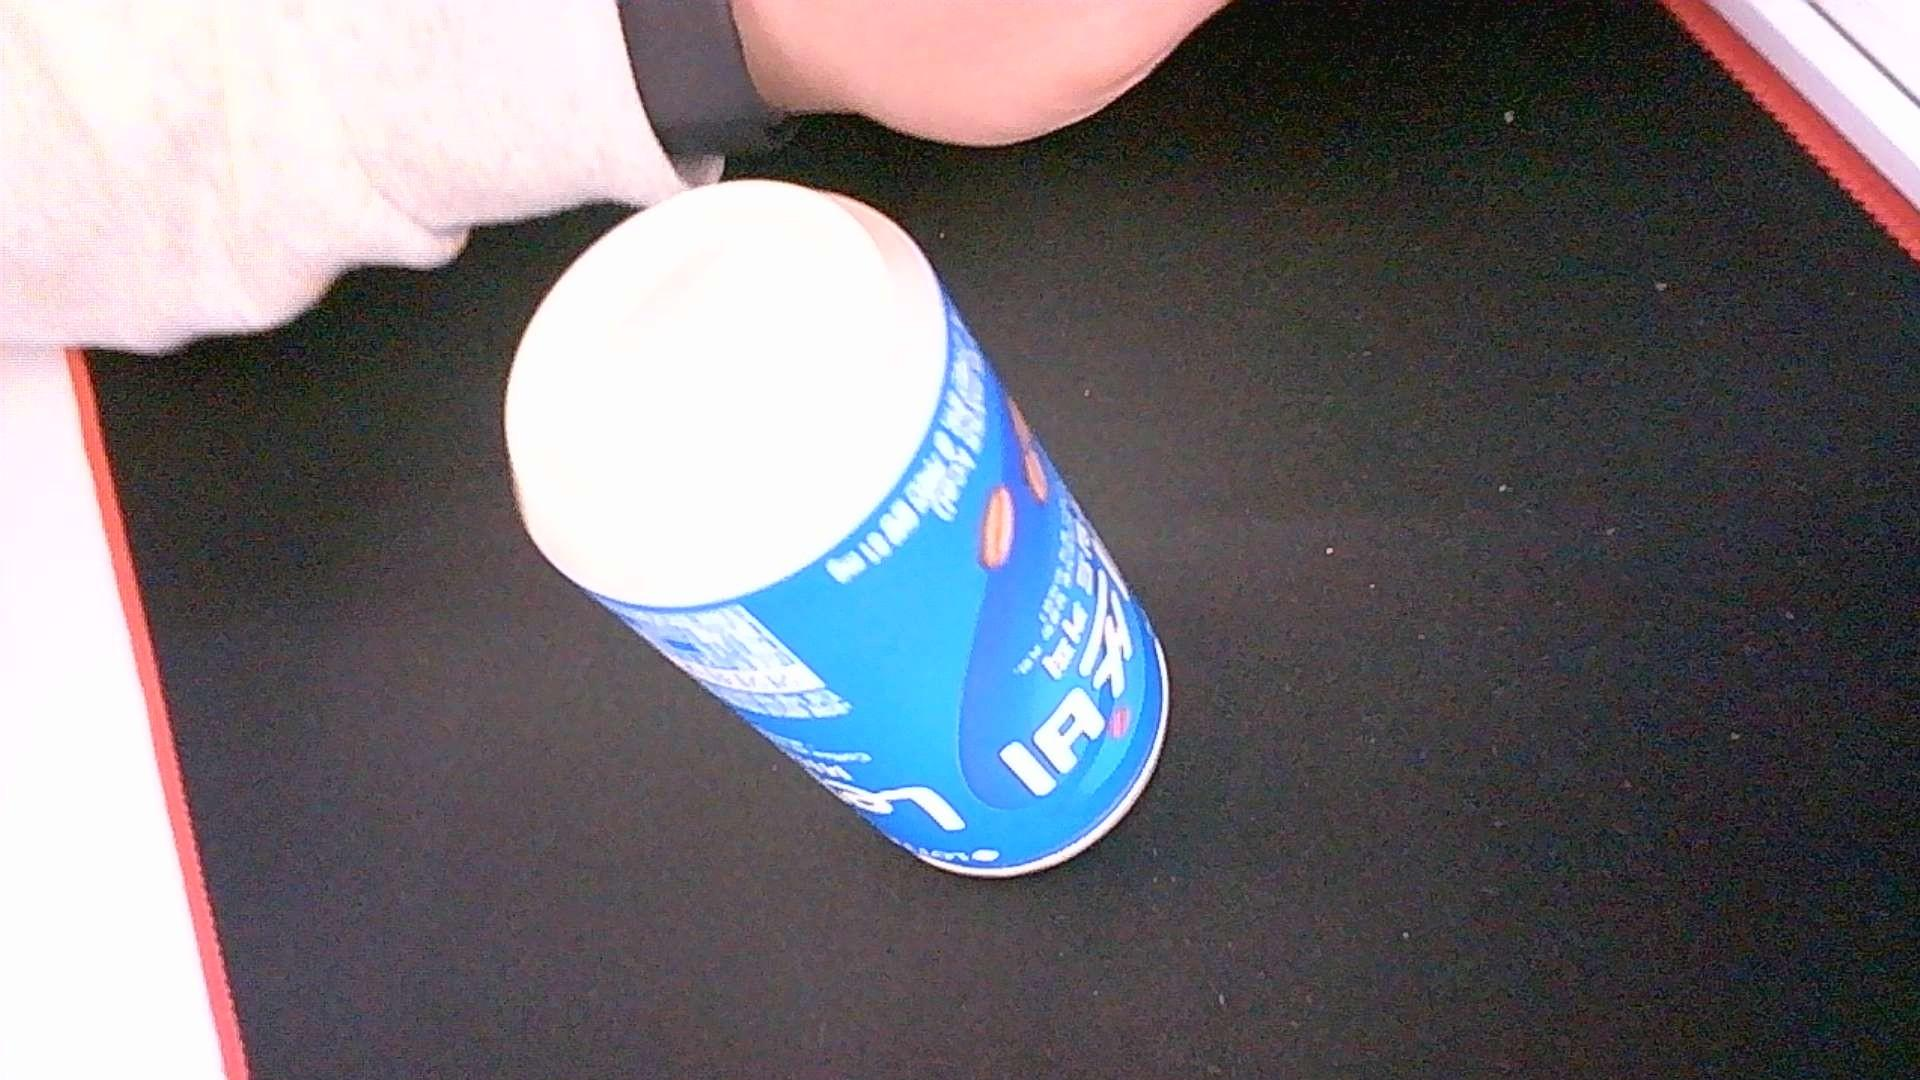letsbe: (500, 175, 1174, 880)
